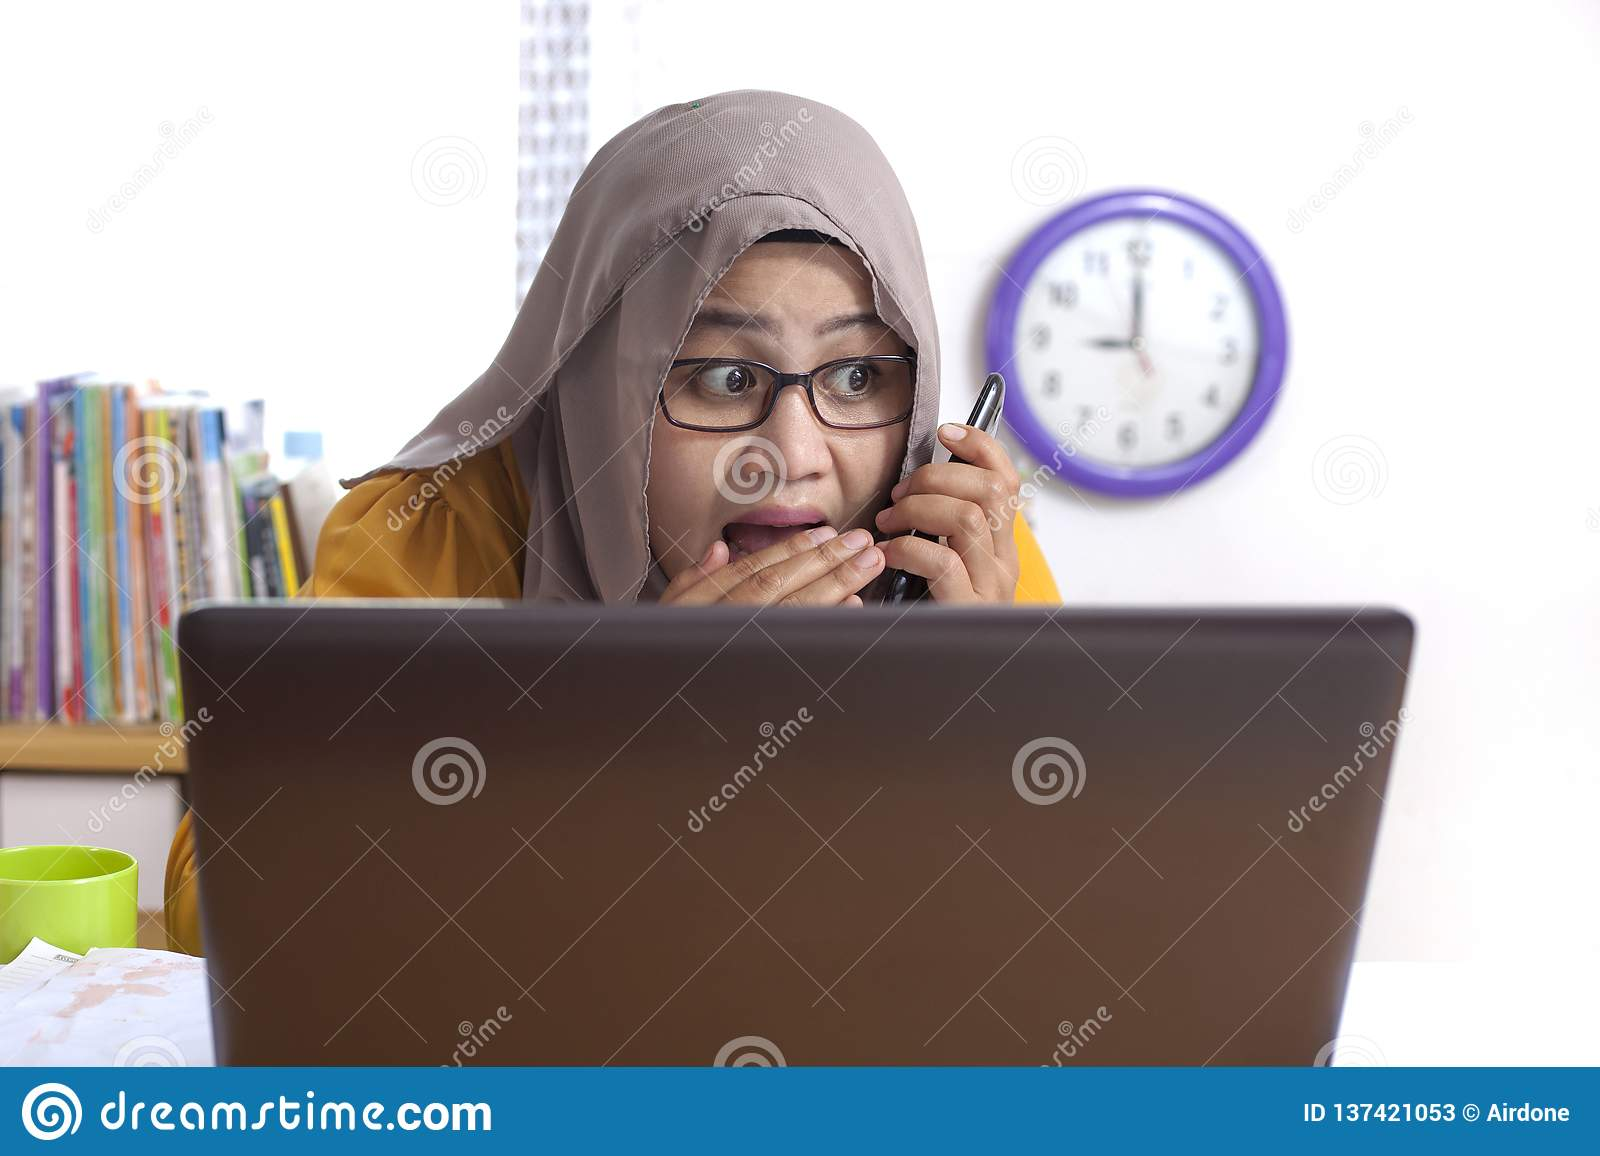phone: (887, 366, 1005, 613)
talk: (655, 302, 1026, 606)
